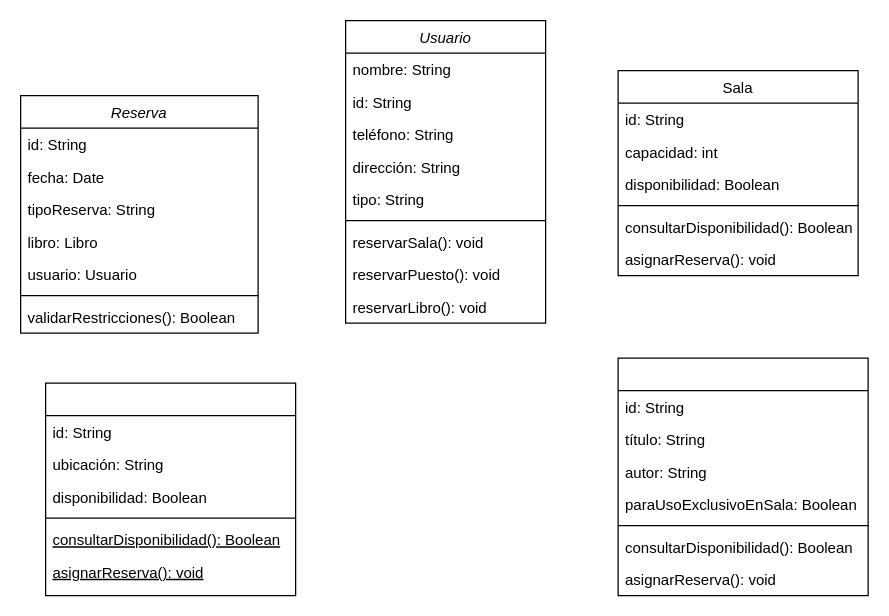
Image size: 889x616. Some labels were removed from this diagram. Here are the shapes that lost their labels. From the top down, the box of each, then its label:
(44, 382, 296, 596): PuestoLectura
(617, 357, 868, 596): Libro
